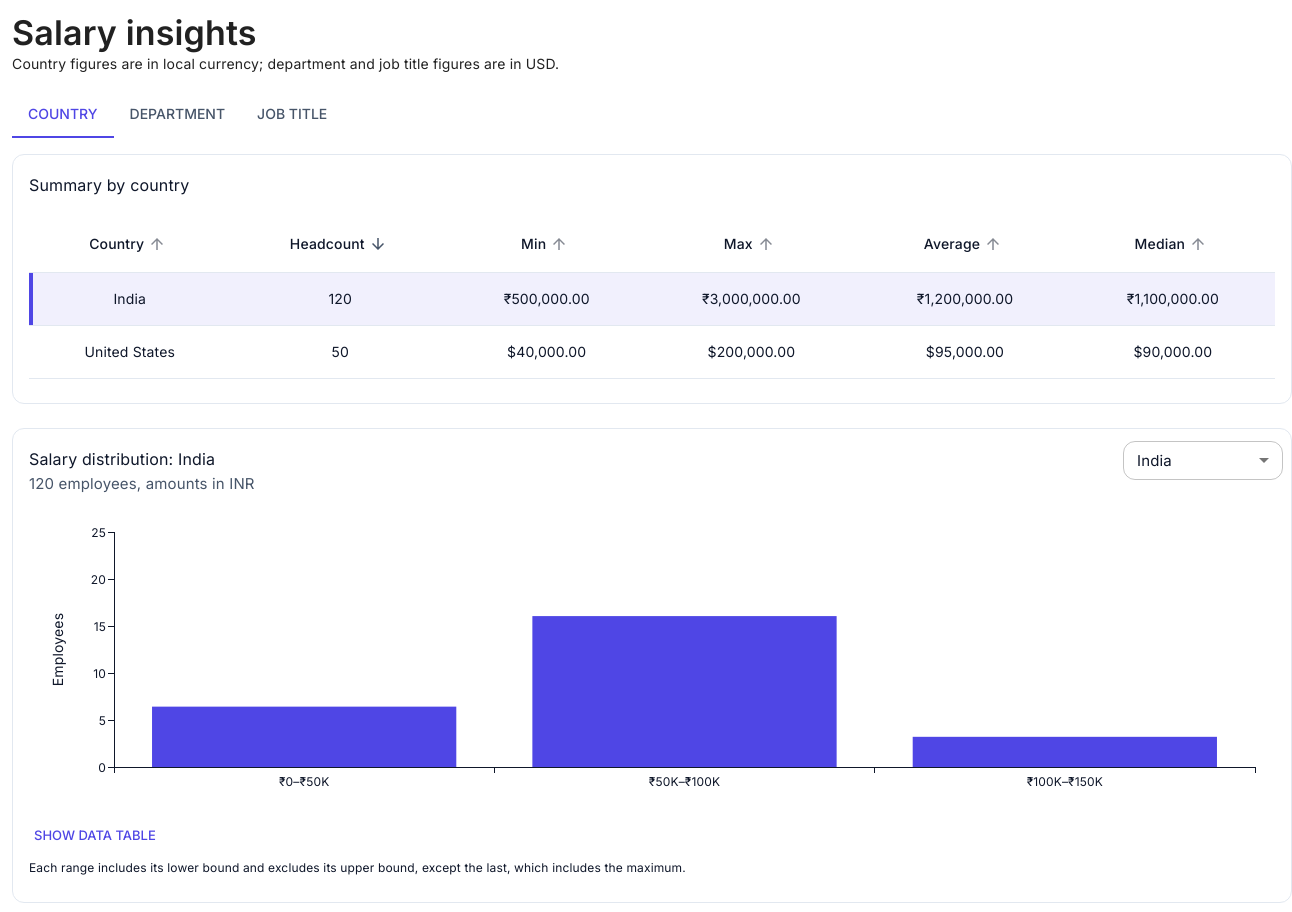
Scenario: InsightsPage › changing the group selector updates the chart and highlights the matching row
Expected: the picture named "india" is shown, 29,512 -> 1275,812
Click the dropdown named "Select group for chart".
click(1154, 460)  # box 1137,451 -> 1172,470
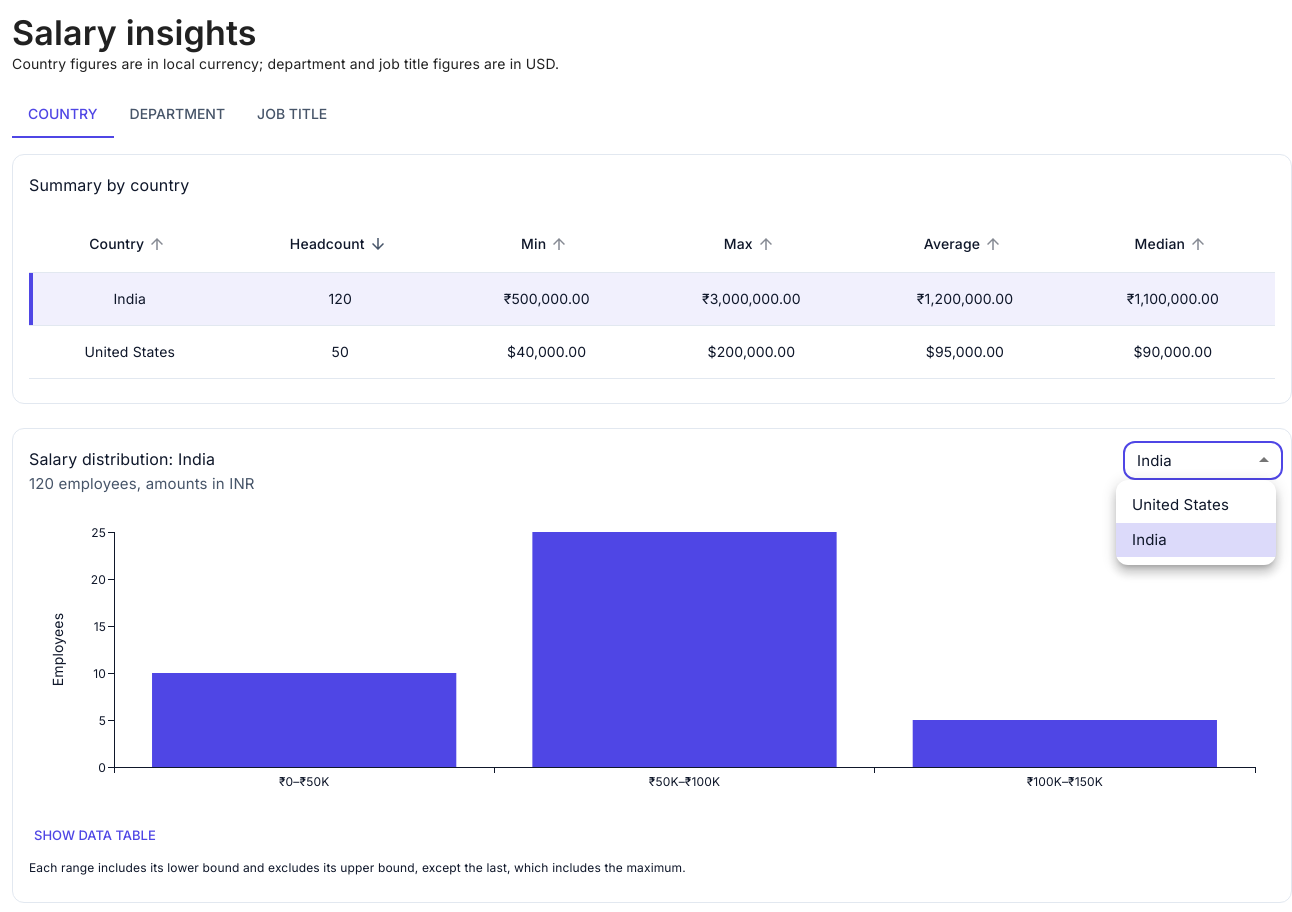
Click the option "United States".
click(1180, 504)  # box 1132,495 -> 1229,514
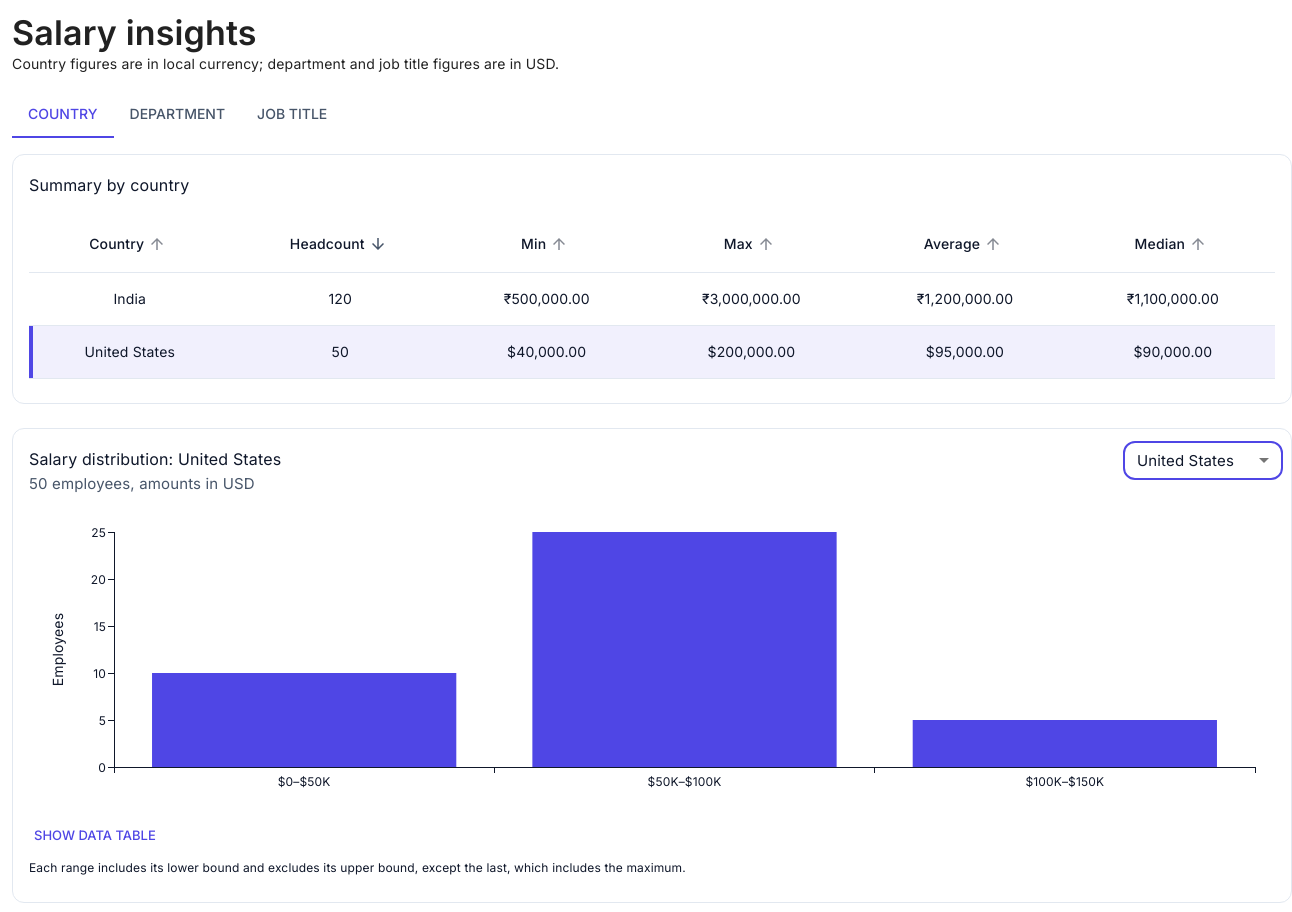
Expected: the picture named "united states" is shown, 29,512 -> 1275,812
